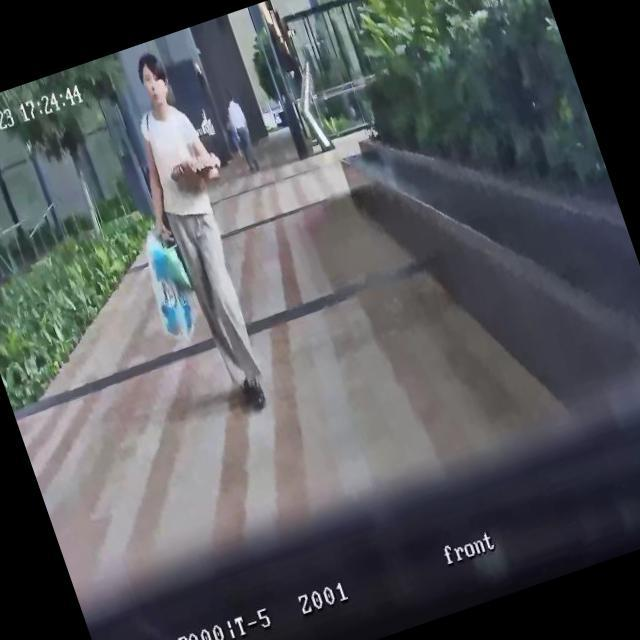person: (99, 40, 300, 423), (221, 89, 264, 175)
